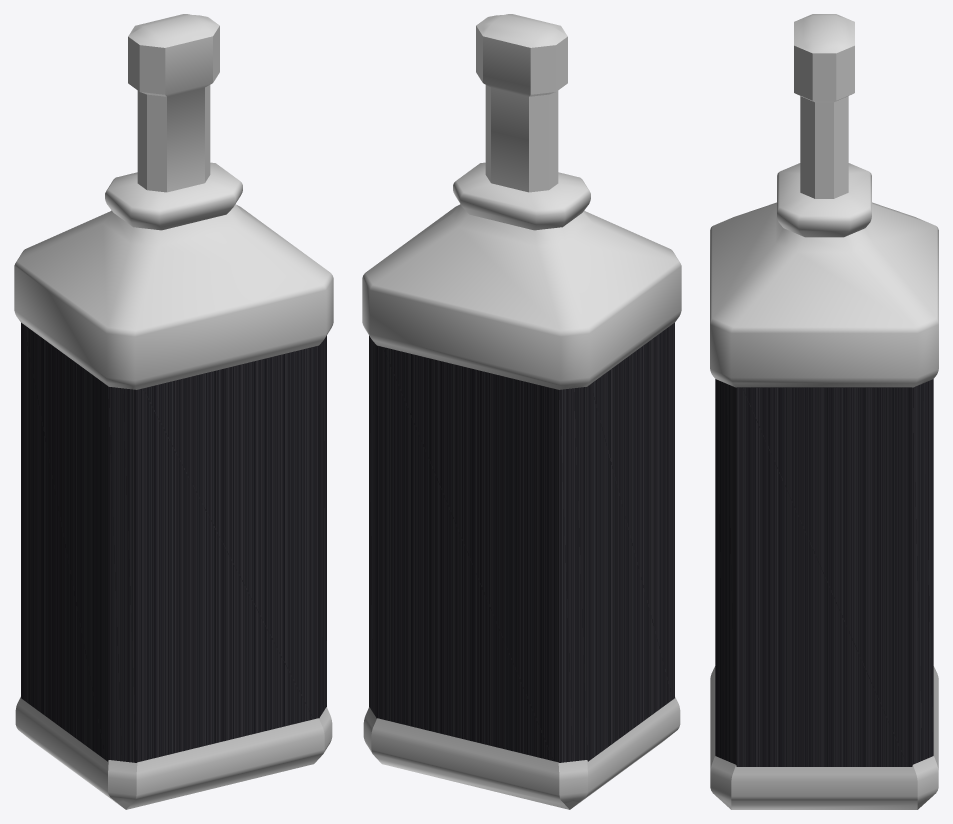
File: Alcohol bottle.FBX
3 renders of one model, left to right at view 1: azimuth 30°, elevation 25°; view 2: azimuth 150°, elevation 25°; view 3: azimuth 270°, elevation 25°, orthographic.
Visible parts, largest first — view 1: Alcohol bottle; view 2: Alcohol bottle; view 3: Alcohol bottle.
Part boxes in pixels (box(x1,y1,x2,y2)): Alcohol bottle: box(14, 14, 333, 809); Alcohol bottle: box(362, 14, 681, 809); Alcohol bottle: box(710, 14, 938, 809).
Bounding box in the file's own units: 7.23 × 22.16 × 6.24.
Materials: 2 (1 with a texture image).
